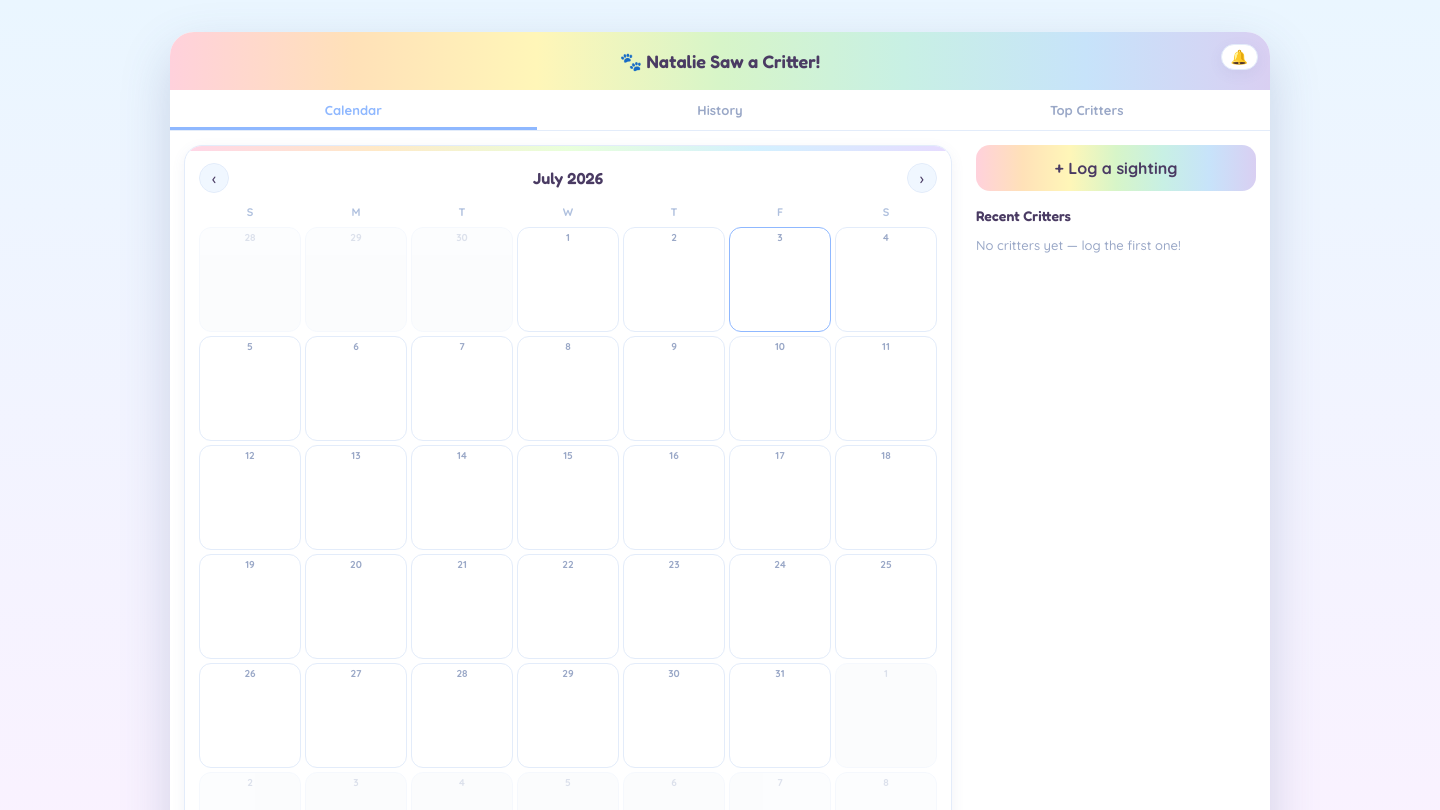
Test: App shell › switches to the History tab and shows the date filter + empty state
Click the tab "History" at coordinates (720, 110), box [537, 90, 903, 130]
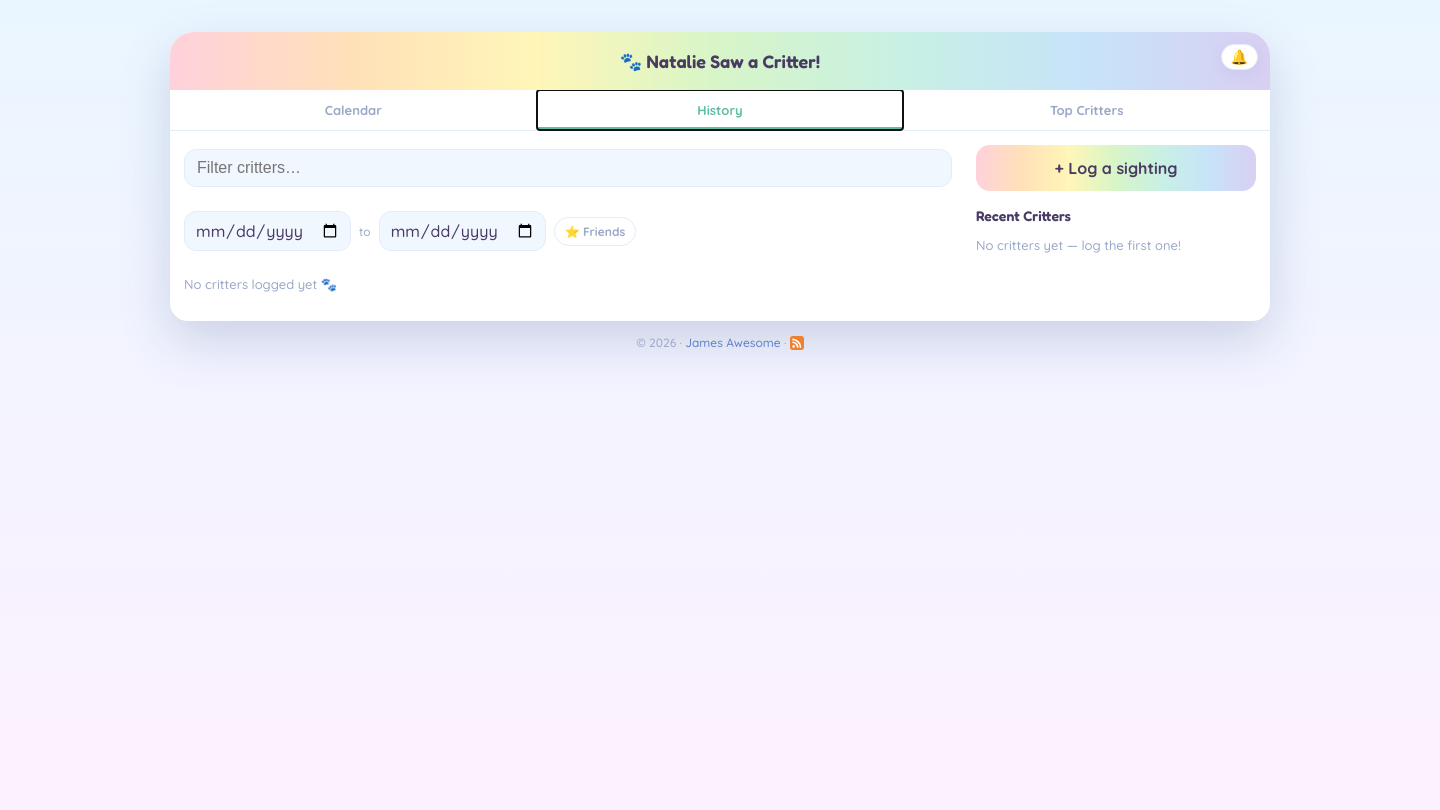
Expected: the date field named "From" is shown, [184, 211, 351, 251]
Expected: the text "No critters logged yet 🐾" is shown, [184, 276, 337, 292]
